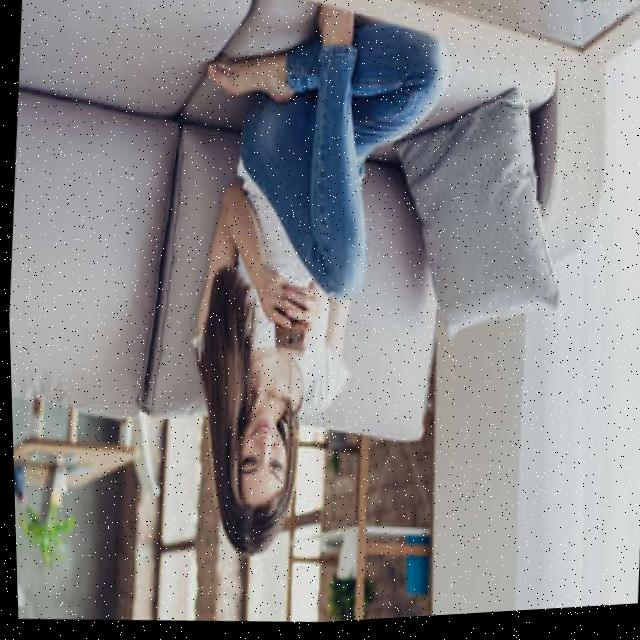smartphone-person: (155, 0, 486, 600)
